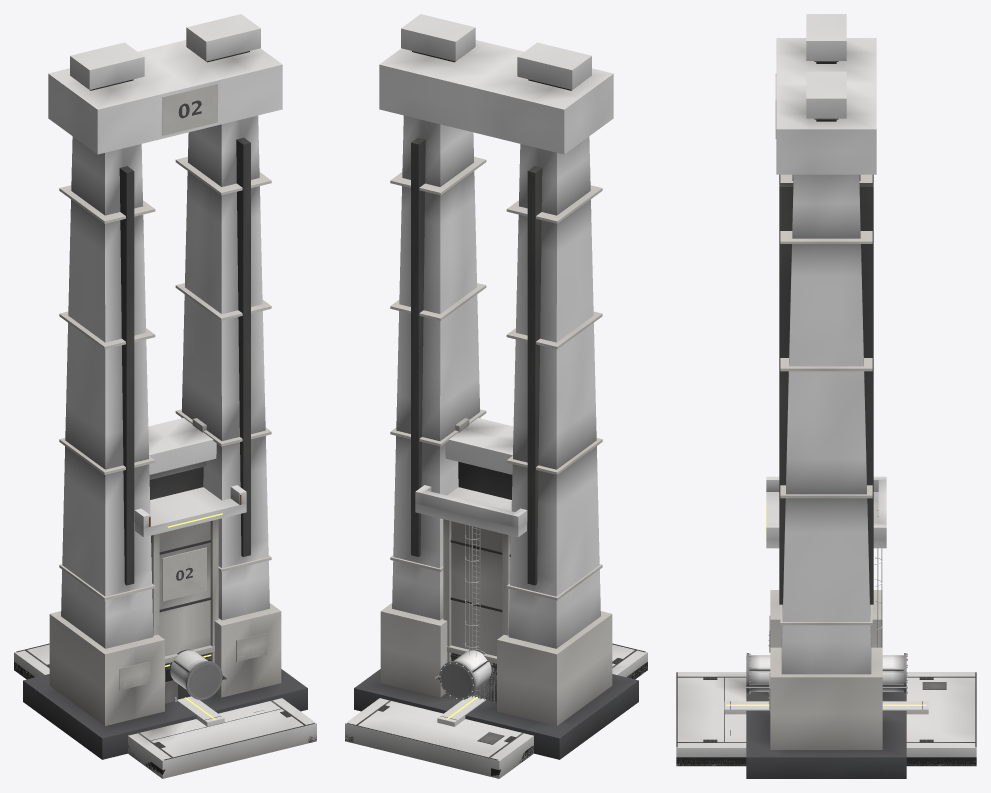
File: route.glb
3 renders of one model, left to right at view 1: azimuth 30°, elevation 25°; view 2: azimuth 150°, elevation 25°; view 3: azimuth 270°, elevation 25°, orthographic.
Parts seen in each view (by area): view 1: causeway_pier, watcher_tower, causeway_segment, dam_sluice, pipeline_segment, sluice_gate, causeway_parapet, dam_control_hut; view 2: causeway_pier, watcher_tower, causeway_segment, dam_sluice, pipeline_segment, sluice_gate, causeway_parapet, dam_control_hut; view 3: causeway_pier, causeway_segment, watcher_tower, pipeline_segment, causeway_parapet.
Boxes of the visible parts, bbox=[...] form: causeway_pier: bbox=[23, 14, 307, 759]; watcher_tower: bbox=[134, 485, 246, 699]; causeway_segment: bbox=[14, 643, 316, 778]; dam_sluice: bbox=[148, 418, 216, 474]; pipeline_segment: bbox=[168, 649, 226, 699]; sluice_gate: bbox=[149, 461, 206, 499]; causeway_parapet: bbox=[176, 696, 224, 726]; dam_control_hut: bbox=[165, 645, 214, 703]; causeway_pier: bbox=[354, 14, 638, 759]; watcher_tower: bbox=[415, 485, 527, 702]; causeway_segment: bbox=[345, 643, 647, 778]; dam_sluice: bbox=[445, 418, 513, 474]; pipeline_segment: bbox=[435, 649, 493, 699]; sluice_gate: bbox=[458, 461, 512, 499]; causeway_parapet: bbox=[437, 696, 486, 726]; dam_control_hut: bbox=[447, 645, 496, 703]; causeway_pier: bbox=[746, 14, 906, 778]; causeway_segment: bbox=[676, 672, 976, 766]; watcher_tower: bbox=[765, 476, 886, 647]; pipeline_segment: bbox=[746, 653, 907, 694]; causeway_parapet: bbox=[724, 701, 928, 714].
Size of what is drawn, in the model's own units: 12 by 37 by 15.
Materials: 5 (1 with a texture image).
